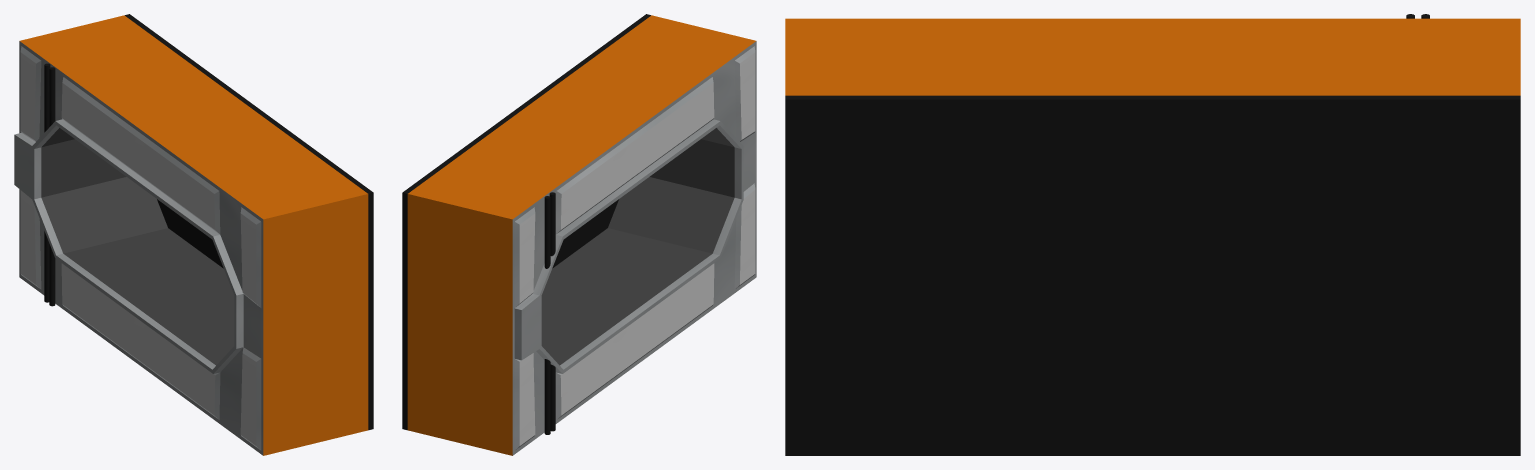
The model's file is BedAsset1.FBX.
3 renders of one model, left to right at view 1: azimuth 30°, elevation 25°; view 2: azimuth 150°, elevation 25°; view 3: azimuth 270°, elevation 25°, orthographic. The views are drawn at different scales.
Parts seen in each view (by area): view 1: Box001, Box002, Box003; view 2: Box001, Box002, Box003; view 3: Box002, Box001.
Part boxes in pixels (x1,y1,x2,y2): Box001: (14,15,368,455); Box002: (125,14,373,430); Box003: (44,63,55,306); Box001: (407,15,756,455); Box002: (402,14,650,430); Box003: (544,192,555,434); Box002: (785,95,1520,455); Box001: (785,18,1520,95).
Size of the model in its own units: 32.42 by 62.46 by 117.
2 materials, 1 textured.
